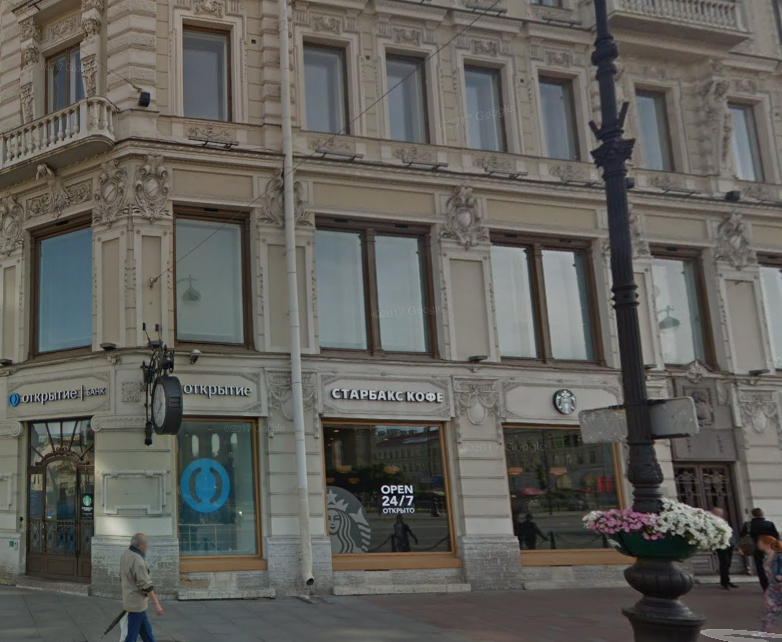signboard: (332, 383, 447, 405), (7, 384, 110, 401), (549, 384, 579, 416)
win_ad: (175, 452, 234, 513)
window: (326, 423, 459, 566), (311, 220, 442, 360), (499, 422, 635, 554), (491, 239, 610, 368), (179, 416, 262, 568), (19, 417, 93, 581), (171, 207, 246, 348), (32, 224, 103, 360), (650, 246, 722, 375), (185, 23, 240, 123), (303, 41, 359, 134), (383, 52, 434, 149), (463, 63, 511, 153), (636, 83, 683, 172), (544, 70, 583, 168)
